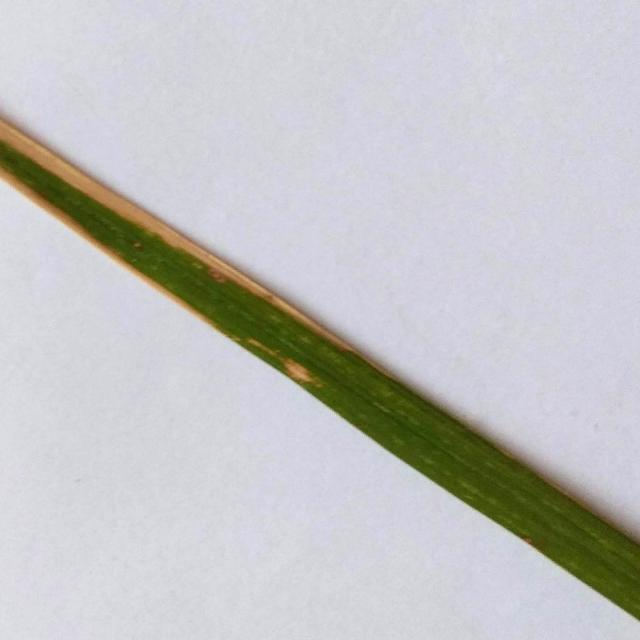Leaf blast: (0, 103, 640, 639)
